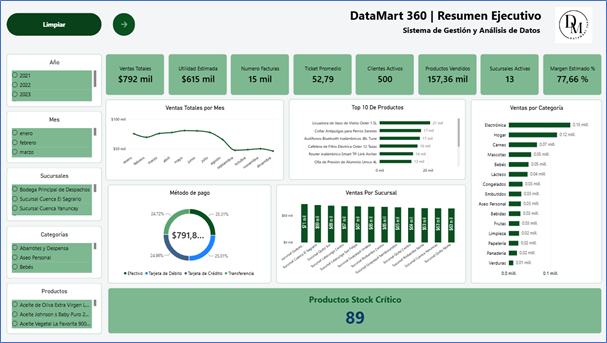

What the dashboard file says about the page in this screenshot:
{"tool":"powerbi","page":{"name":"Resumen Ejecutivo","canvas":[1920,1080],"ordinal":0},"visuals":[{"type":"textbox","box":[1096,22,634,56],"z":0,"group":"g4"},{"type":"listSlicer","fields":{"Values":["Calendario.Año"]},"box":[22,170,300,166],"z":0,"group":"g2"},{"type":"cardVisual","fields":{"Data":["_Medidas.Productos Stock Crítico"]},"box":[342.6,909.3,1559.3,144.4],"z":0},{"type":"cardVisual","fields":{"Data":["_Medidas.Ventas Totales"]},"box":[336,170,185,130],"z":1000,"group":"g1"},{"type":"listSlicer","title":"Mes","fields":{"Values":["Calendario.Nombre Mes"]},"box":[22,352,300,162],"z":1000,"group":"g2"},{"type":"clusteredColumnChart","title":"Ventas Por Sucursal","fields":{"Category":["sucursales.nombre"],"Y":["_Medidas.Ventas Totales"]},"box":[874.1,583.3,598.1,311.1],"z":1000},{"type":"cardVisual","fields":{"Data":["_Medidas.Utilidad Estimada"]},"box":[533.4,170,185,130],"z":2000,"group":"g1"},{"type":"barChart","title":"Ventas por Categoría","fields":{"Category":["categorias.nombre"],"Y":["_Medidas.Ventas por Detalle"]},"box":[1488.9,314.8,413,579.6],"z":2000},{"type":"listSlicer","title":"Sucursales","fields":{"Values":["sucursales.nombre"]},"box":[21.7,530,300,168],"z":2000,"group":"g2"},{"type":"cardVisual","fields":{"Data":["_Medidas.Ticket Promedio"]},"box":[928.1,170,185,130],"z":3000,"group":"g1"},{"type":"clusteredBarChart","title":"Top 10 De Productos","fields":{"Category":["productos.nombre"],"Y":["_Medidas.Ventas por Detalle"]},"box":[915.1,313.5,556.5,254.7],"z":3000},{"type":"listSlicer","title":"Categorías","fields":{"Values":["categorias.nombre"]},"box":[21.7,714,300,164],"z":3000,"group":"g2"},{"type":"donutChart","title":"Método de pago","fields":{"Category":["metodos_pago.nombre"],"Y":["_Medidas.Ventas Totales"]},"box":[342.6,583.3,514.8,311.1],"z":4000},{"type":"listSlicer","title":"Productos","fields":{"Values":["productos.nombre"]},"box":[22,894,300,160],"z":4000,"group":"g2"},{"type":"actionButton","title":"Limpiar","box":[21.7,41.6,300,72],"z":5000},{"type":"cardVisual","fields":{"Data":["_Medidas.Numero Facturas"]},"box":[730.7,170,185,130],"z":5000,"group":"g1"},{"type":"cardVisual","fields":{"Data":["_Medidas.Clientes Activos"]},"box":[1125.5,170,185,130],"z":6000,"group":"g1"},{"type":"lineChart","title":"Ventas Totales por Mes","fields":{"Category":["Calendario.Nombre Mes"],"Y":["_Medidas.Ventas Totales"]},"box":[336,314,562,254],"z":6000},{"type":"group","id":"g1","title":"Grupo 3","box":[336,170,1566.6,130],"z":7000},{"type":"cardVisual","fields":{"Data":["_Medidas.Productos Vendidos"]},"box":[1322.9,170,185,130],"z":7000,"group":"g1"},{"type":"group","id":"g2","title":"Grupo 1","box":[21.7,170,300.3,884],"z":8000},{"type":"cardVisual","fields":{"Data":["_Medidas.Margen Promedio"]},"box":[1717.6,170,185,130],"z":8000,"group":"g1"},{"type":"image","box":[1752,22,124,114],"z":9000,"group":"g3"},{"type":"actionButton","box":[358.3,41.6,70.6,72.4],"z":9000},{"type":"cardVisual","fields":{"Data":["_Medidas.Sucursales Activas"]},"box":[1520.2,170,185,130],"z":9000,"group":"g1"},{"type":"group","id":"g3","title":"Grupo 4","box":[1096,22,780,114],"z":10000},{"type":"group","id":"g4","title":"Grupo 2","box":[1096,22,634,98],"z":11000,"group":"g3"},{"type":"textbox","box":[1274,78,446,42],"z":16000,"group":"g4"}]}

Visuals, with their boxes in screenshot pixels (x1, y1, x2, y2), scaled from the page's 1920x1080 canvas onto the 607x343 screenshot:
textbox: crop(346, 7, 547, 25)
listSlicer - Calendario.Año: crop(7, 54, 102, 107)
cardVisual - _Medidas.Productos Stock Crítico: crop(108, 289, 601, 335)
cardVisual - _Medidas.Ventas Totales: crop(106, 54, 165, 95)
"Mes" listSlicer: crop(7, 112, 102, 163)
"Ventas Por Sucursal" clusteredColumnChart: crop(276, 185, 465, 284)
cardVisual - _Medidas.Utilidad Estimada: crop(169, 54, 227, 95)
"Ventas por Categoría" barChart: crop(471, 100, 601, 284)
"Sucursales" listSlicer: crop(7, 168, 102, 222)
cardVisual - _Medidas.Ticket Promedio: crop(293, 54, 352, 95)
"Top 10 De Productos" clusteredBarChart: crop(289, 100, 465, 180)
"Categorías" listSlicer: crop(7, 227, 102, 279)
"Método de pago" donutChart: crop(108, 185, 271, 284)
"Productos" listSlicer: crop(7, 284, 102, 335)
"Limpiar" actionButton: crop(7, 13, 102, 36)
cardVisual - _Medidas.Numero Facturas: crop(231, 54, 289, 95)
cardVisual - _Medidas.Clientes Activos: crop(356, 54, 414, 95)
"Ventas Totales por Mes" lineChart: crop(106, 100, 284, 180)
"Grupo 3" group: crop(106, 54, 601, 95)
cardVisual - _Medidas.Productos Vendidos: crop(418, 54, 477, 95)
"Grupo 1" group: crop(7, 54, 102, 335)
cardVisual - _Medidas.Margen Promedio: crop(543, 54, 601, 95)
image: crop(554, 7, 593, 43)
actionButton: crop(113, 13, 136, 36)
cardVisual - _Medidas.Sucursales Activas: crop(481, 54, 539, 95)
"Grupo 4" group: crop(346, 7, 593, 43)
"Grupo 2" group: crop(346, 7, 547, 38)
textbox: crop(403, 25, 544, 38)
